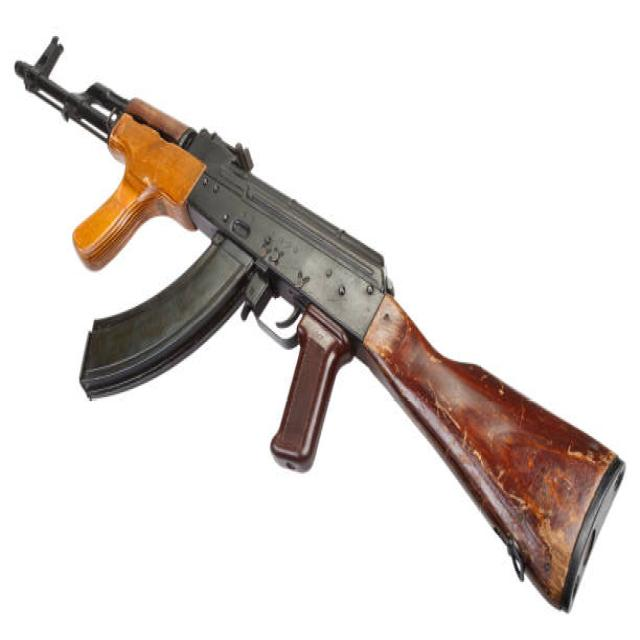rifle: (12, 29, 632, 624)
